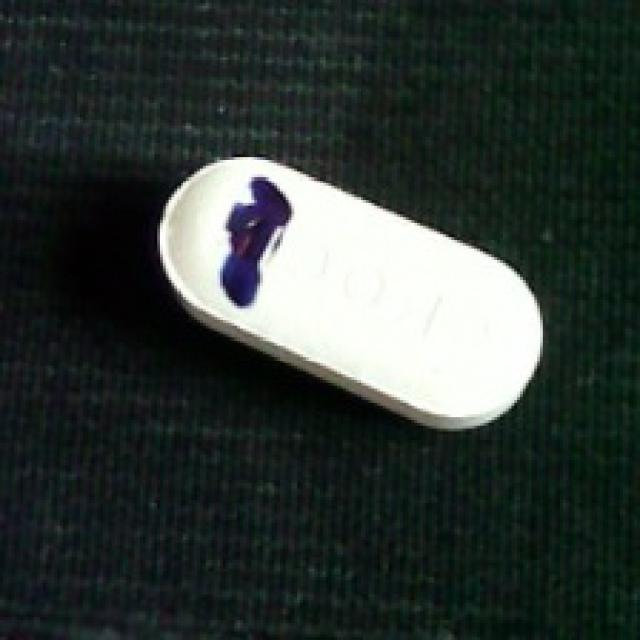defected: (143, 153, 548, 443)
